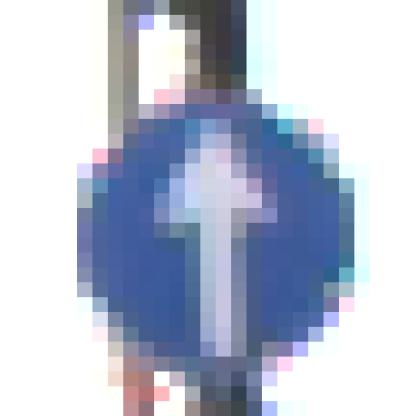AheadOnly: (78, 90, 340, 343)
